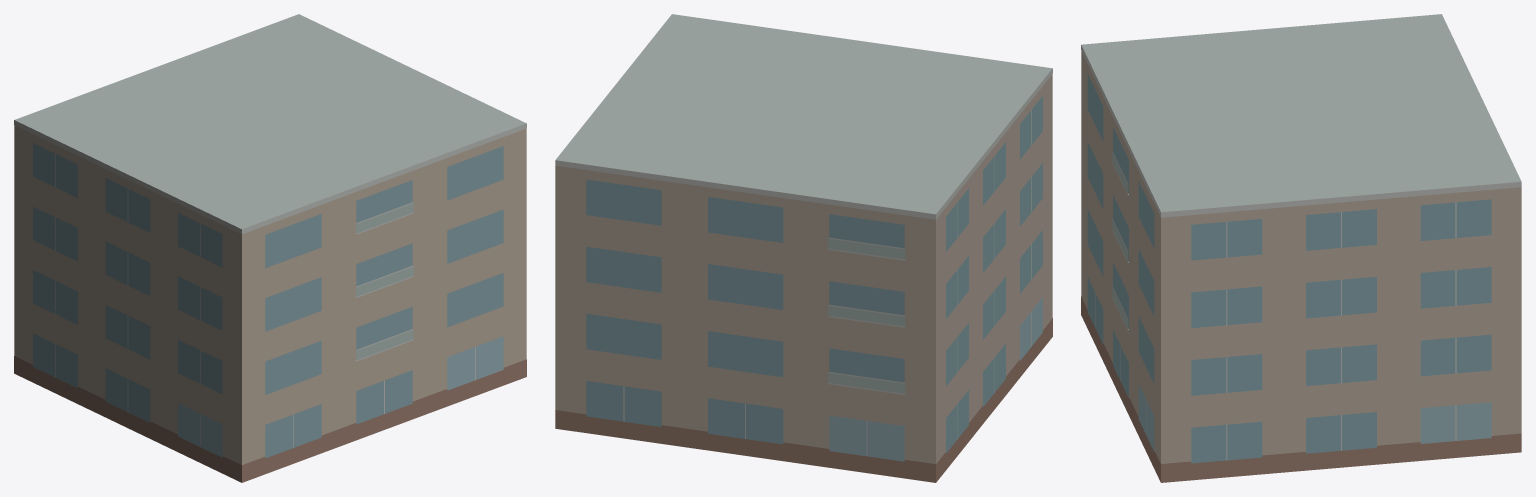
File: residential-bdd980a4-5fa5-43ec-9e68-2be409af3c82.glb
3 renders of one model, left to right at view 1: azimuth 30°, elevation 25°; view 2: azimuth 150°, elevation 25°; view 3: azimuth 270°, elevation 25°, orthographic. The views are drawn at different scales.
Parts seen in each view (by area): view 1: residential-bdd980a4-5fa5-43ec-9e68-2be409af3c82.tmp; view 2: residential-bdd980a4-5fa5-43ec-9e68-2be409af3c82.tmp; view 3: residential-bdd980a4-5fa5-43ec-9e68-2be409af3c82.tmp.
Part boxes in pixels (bbox=[...]): residential-bdd980a4-5fa5-43ec-9e68-2be409af3c82.tmp: bbox=[14, 14, 526, 482]; residential-bdd980a4-5fa5-43ec-9e68-2be409af3c82.tmp: bbox=[555, 14, 1052, 482]; residential-bdd980a4-5fa5-43ec-9e68-2be409af3c82.tmp: bbox=[1081, 14, 1521, 482].
Bounding box in the file's own units: 19.19 × 12.2 × 18.01.
